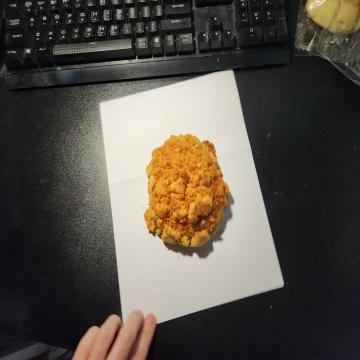soboru_bread: (145, 134, 225, 250)
